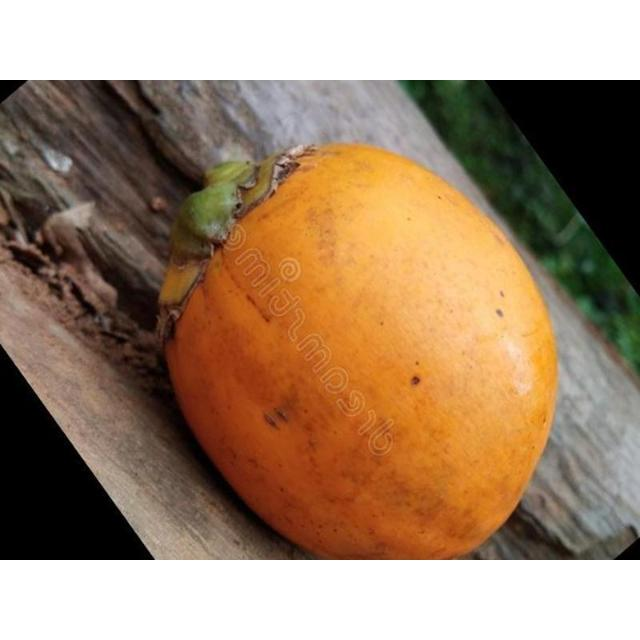good: (160, 144, 562, 559)
